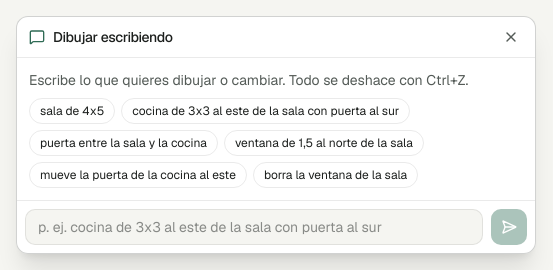
Scenario: chat del estudio › un error del plano se explica sin aplicar nada
In the field named "Mensaje para el plano": (254, 227) [25,209,483,245], type "puerta al sur de la cocina"
Then press Enter
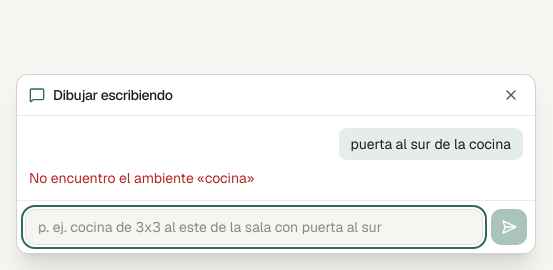
expect the list item "No encuentro el ambiente «cocina»" is shown: met, box [29,168,254,188]
